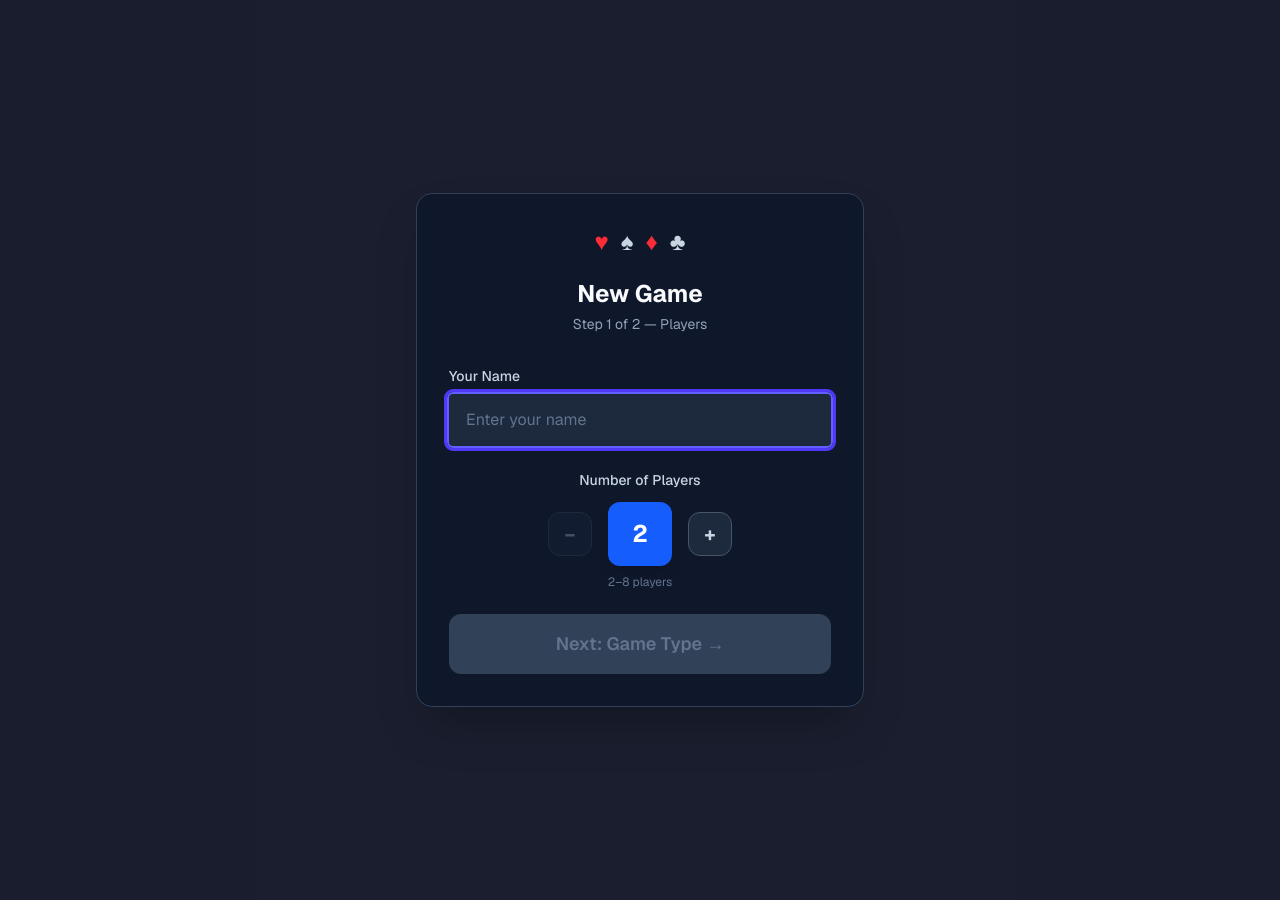
Test case: SetupPhase — step 2 (round config) + submit › back button returns to step 1
Type "Alice" into the field with test id "player-name-input" at (640, 420), box x1=449 y1=394 x2=831 y2=446
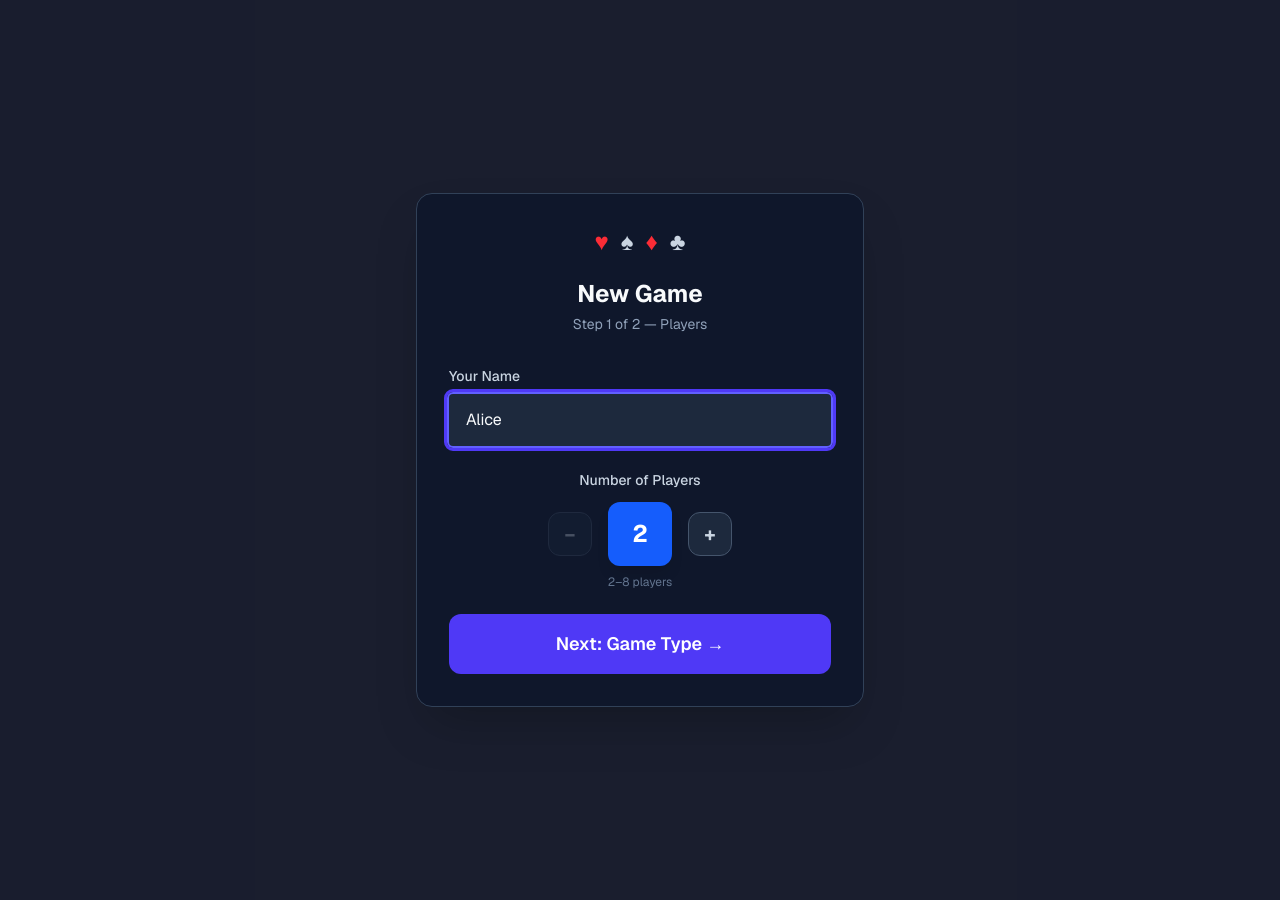
Click the button "Next: Game Type →" at (640, 644), box x1=449 y1=614 x2=831 y2=674
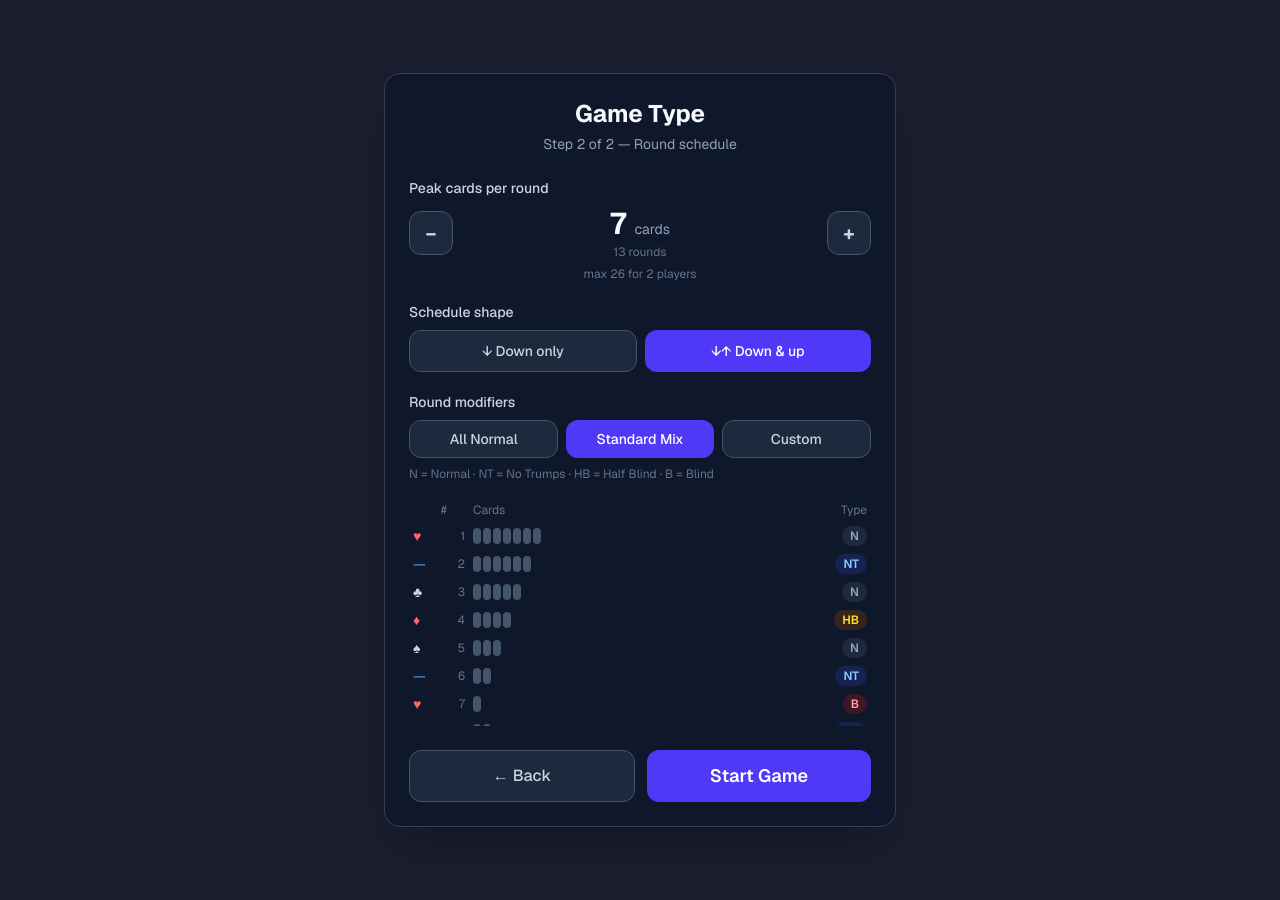
Result: the button with test id "start-game-button" is shown at x1=647 y1=750 x2=871 y2=802
Click the button "← Back" at (522, 776), box x1=409 y1=750 x2=635 y2=802
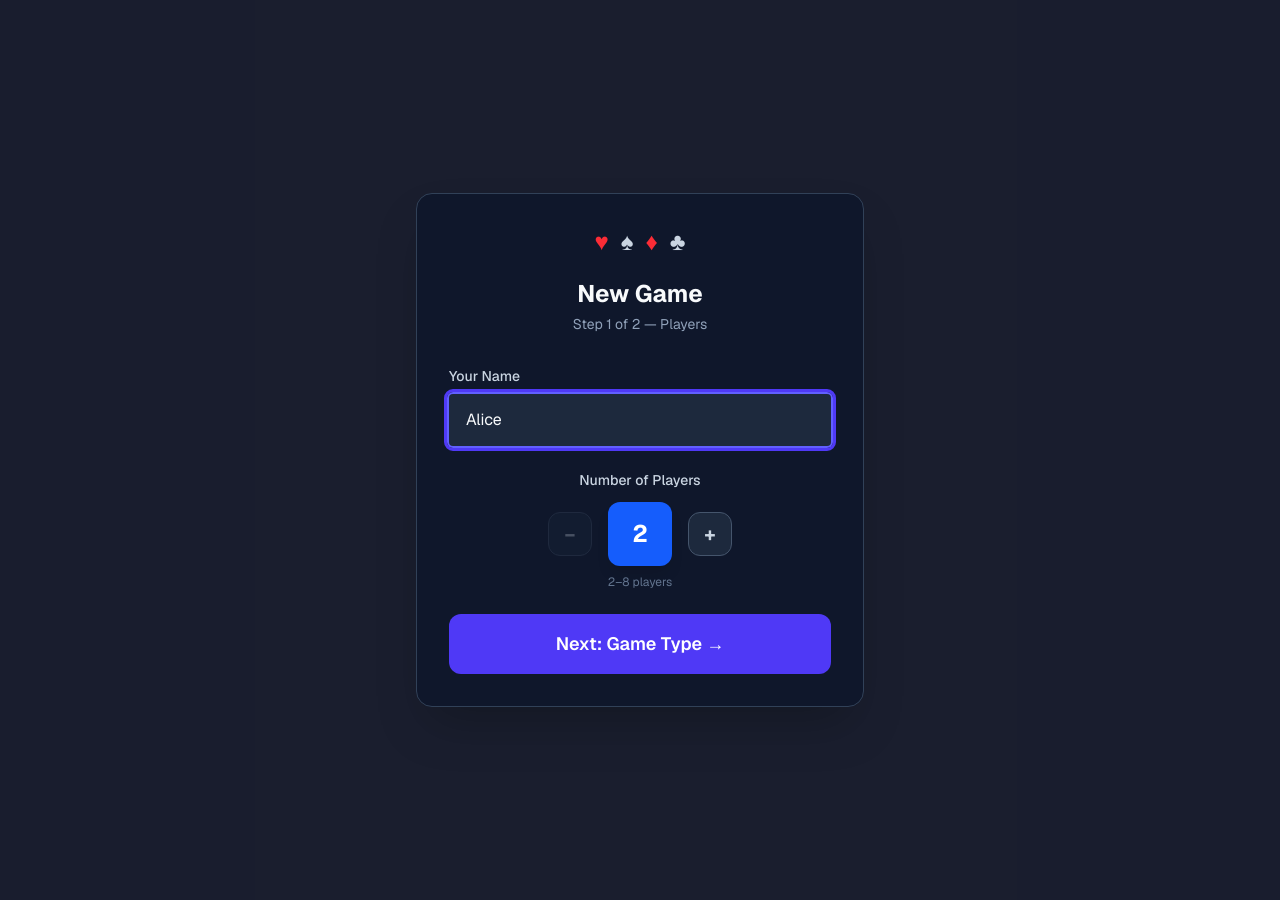
Result: the field with test id "player-name-input" is shown at x1=449 y1=394 x2=831 y2=446
Result: the button with test id "start-game-button" is gone
